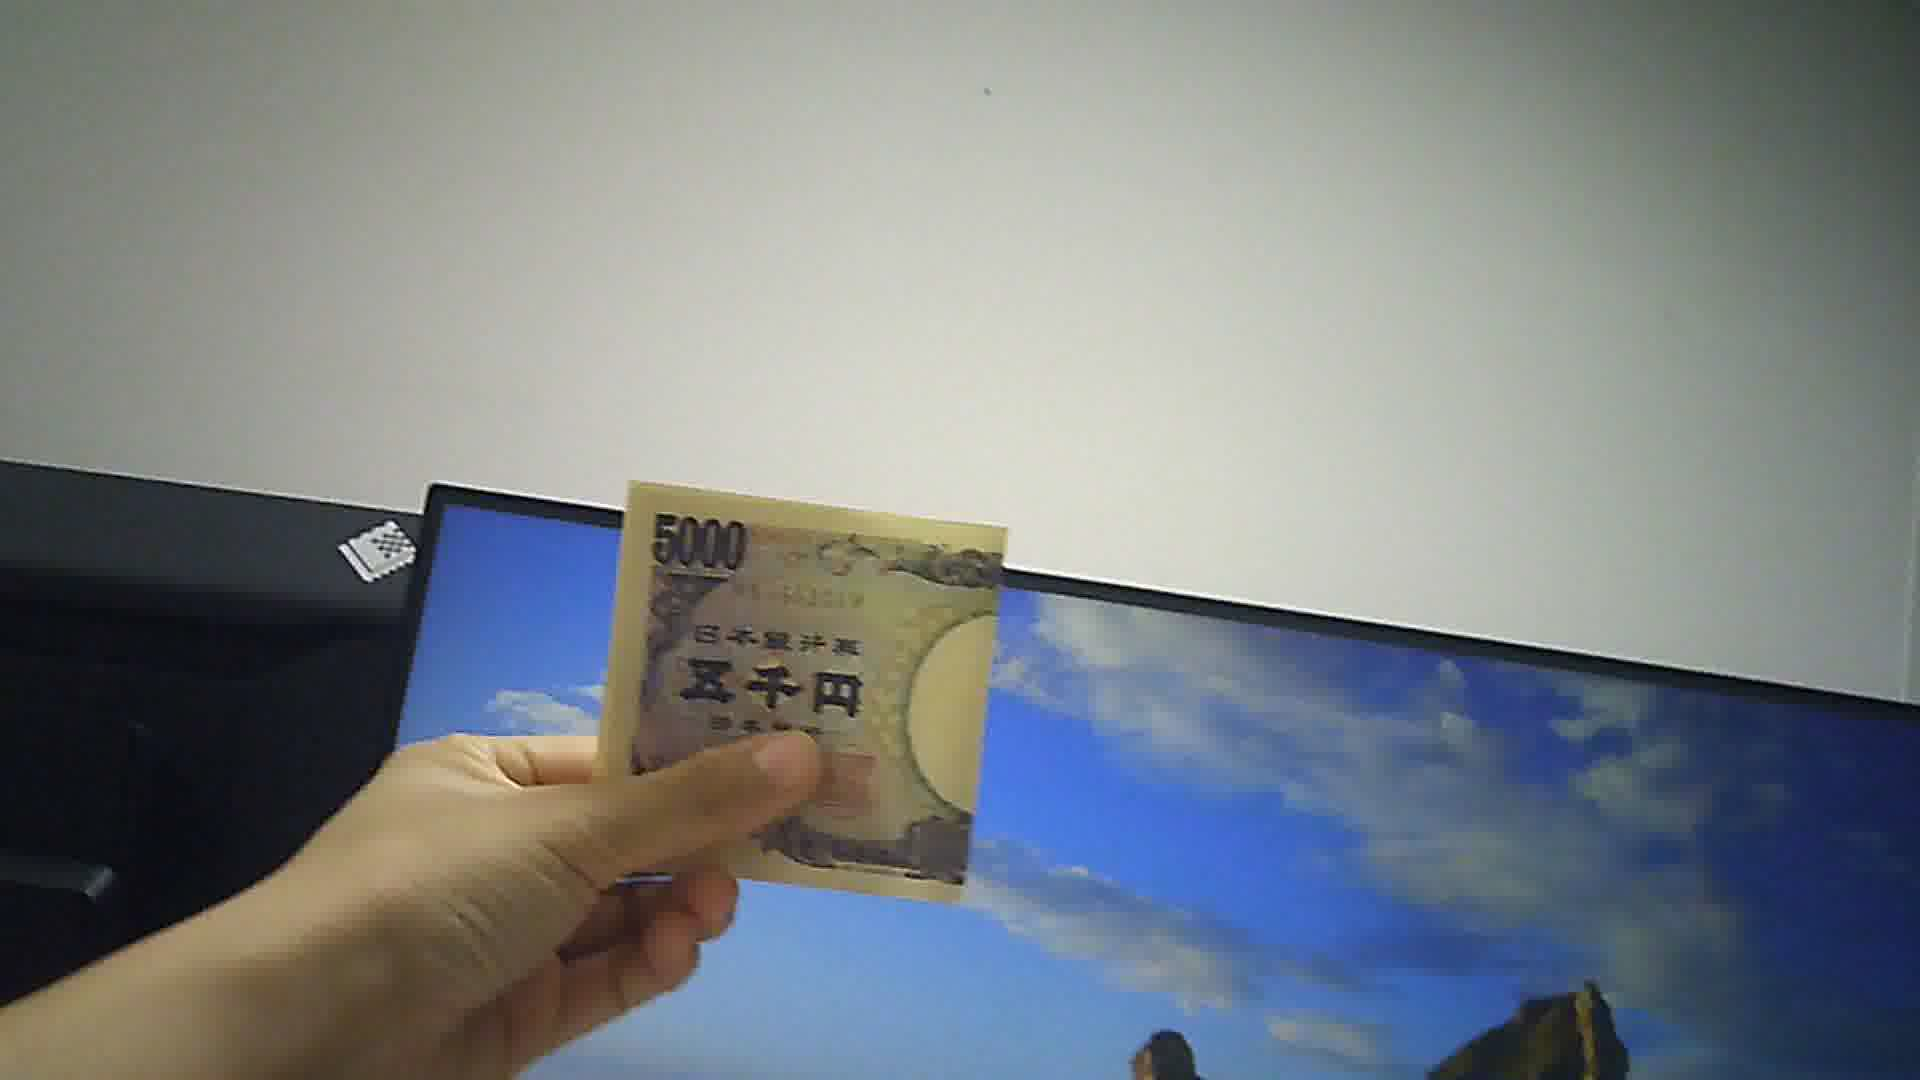5,000 Yen: (596, 451, 1011, 916)
